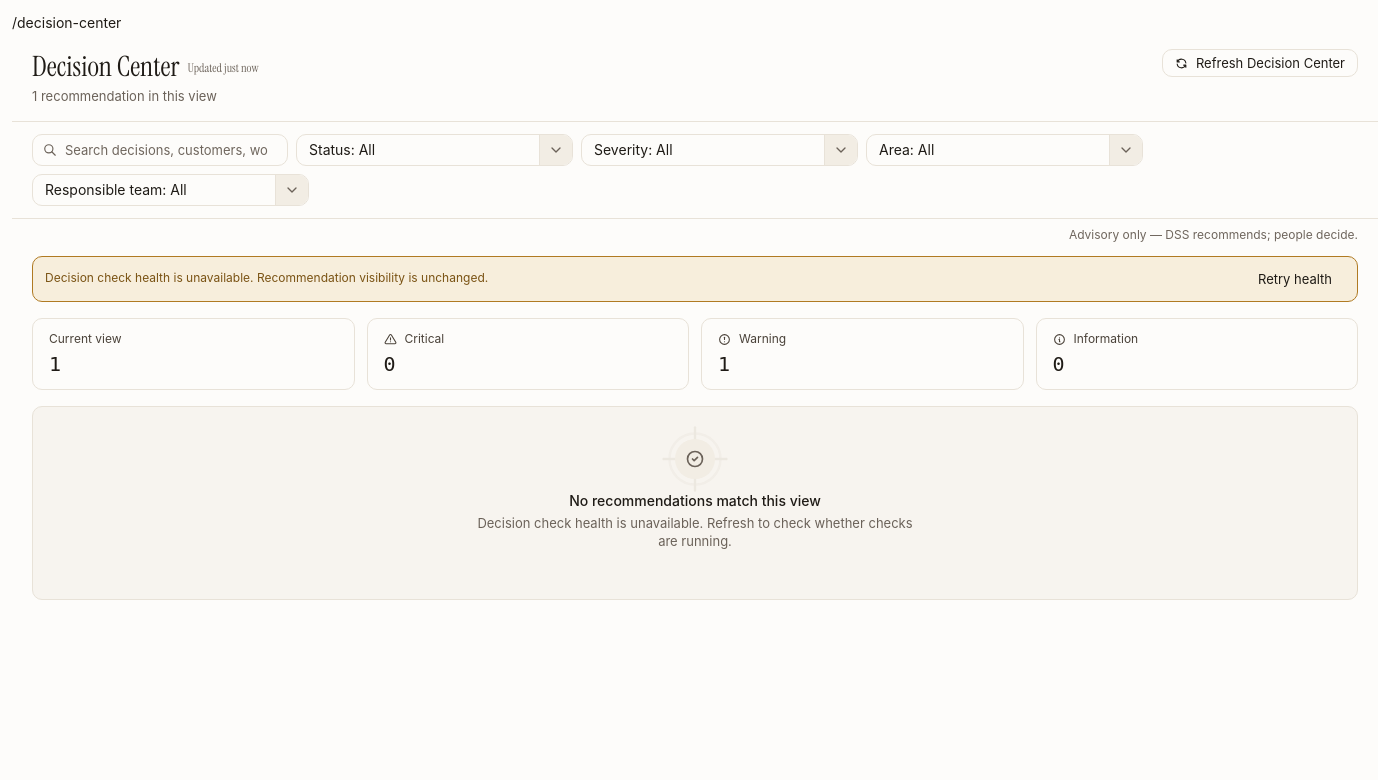
Test: Decision Center › shows coverage warning and retries health checks
Check: the text "Decision check health is unavailable. Recommendation visibility is unchanged." is shown, box x1=45 y1=270 x2=488 y2=287
Click the button "Retry health": [1295, 279] box x1=1245 y1=265 x2=1345 y2=293
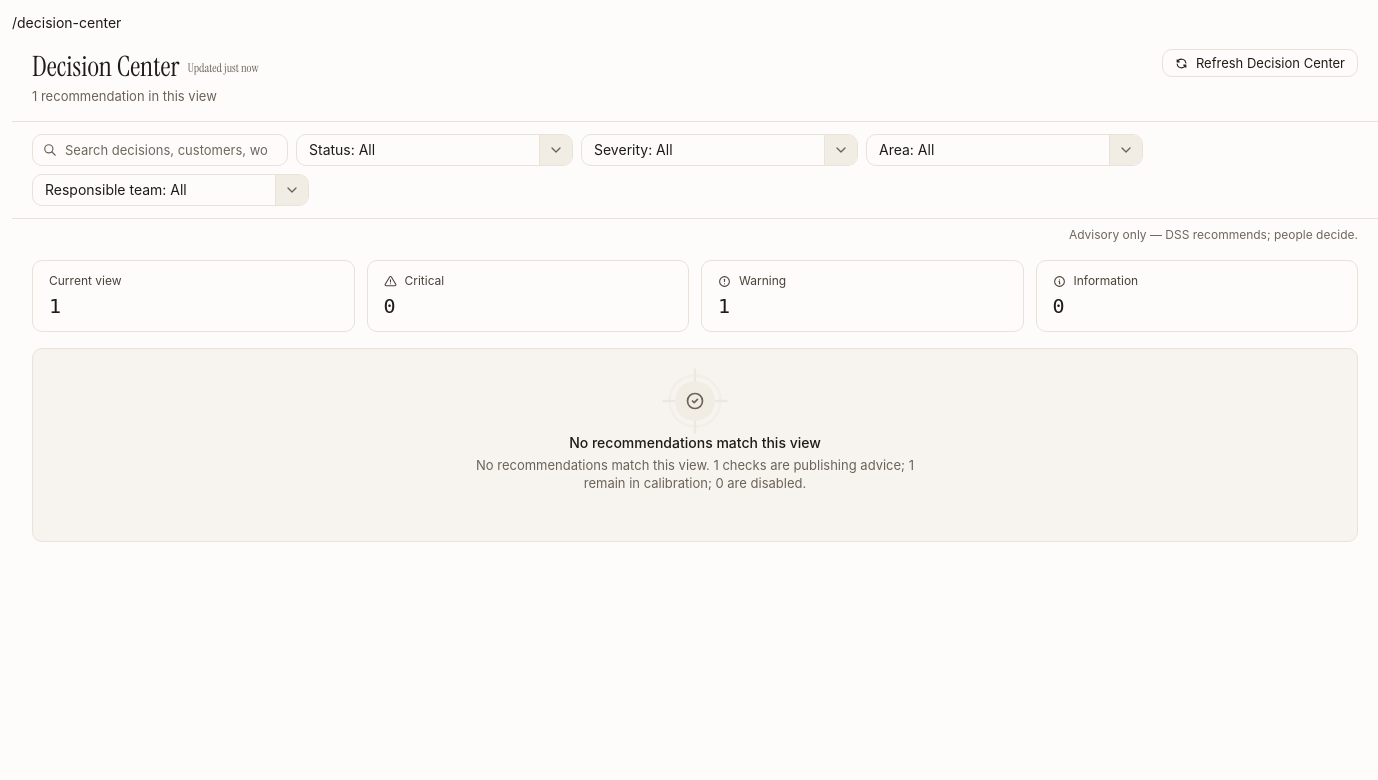
Check: the text "1 checks are publishing advice" is shown, box x1=476 y1=457 x2=914 y2=491
Check: the text "Decision check health is unavailable. Recommendation visibility is unchanged." is gone
